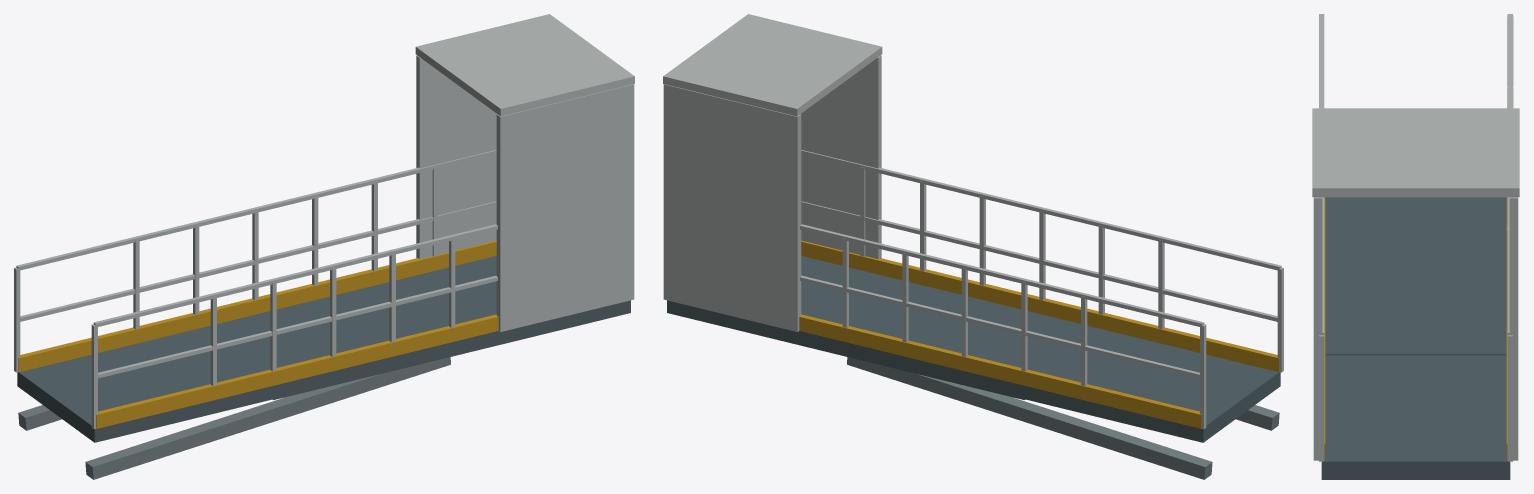
File: crew_arm.glb
3 views of the same model, side by side, from view 1: azimuth 30°, elevation 25°; view 2: azimuth 150°, elevation 25°; view 3: azimuth 270°, elevation 25° (orthographic). The views are drawn at different scales.
Visible parts, largest first — view 1: white_room, fixed; view 2: white_room, fixed; view 3: white_room, fixed.
Boxes of the visible parts, x1=… form: white_room: x1=193, y1=14, x2=634, y2=399; fixed: x1=14, y1=180, x2=455, y2=479; white_room: x1=663, y1=14, x2=1104, y2=399; fixed: x1=842, y1=181, x2=1283, y2=479; white_room: x1=1312, y1=108, x2=1519, y2=479; fixed: x1=1319, y1=14, x2=1513, y2=355.
Size of the model in its own units: 6.05 by 2.96 by 1.65.
